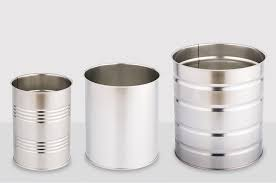can: (168, 45, 269, 174), (81, 61, 163, 172), (10, 72, 77, 173)
